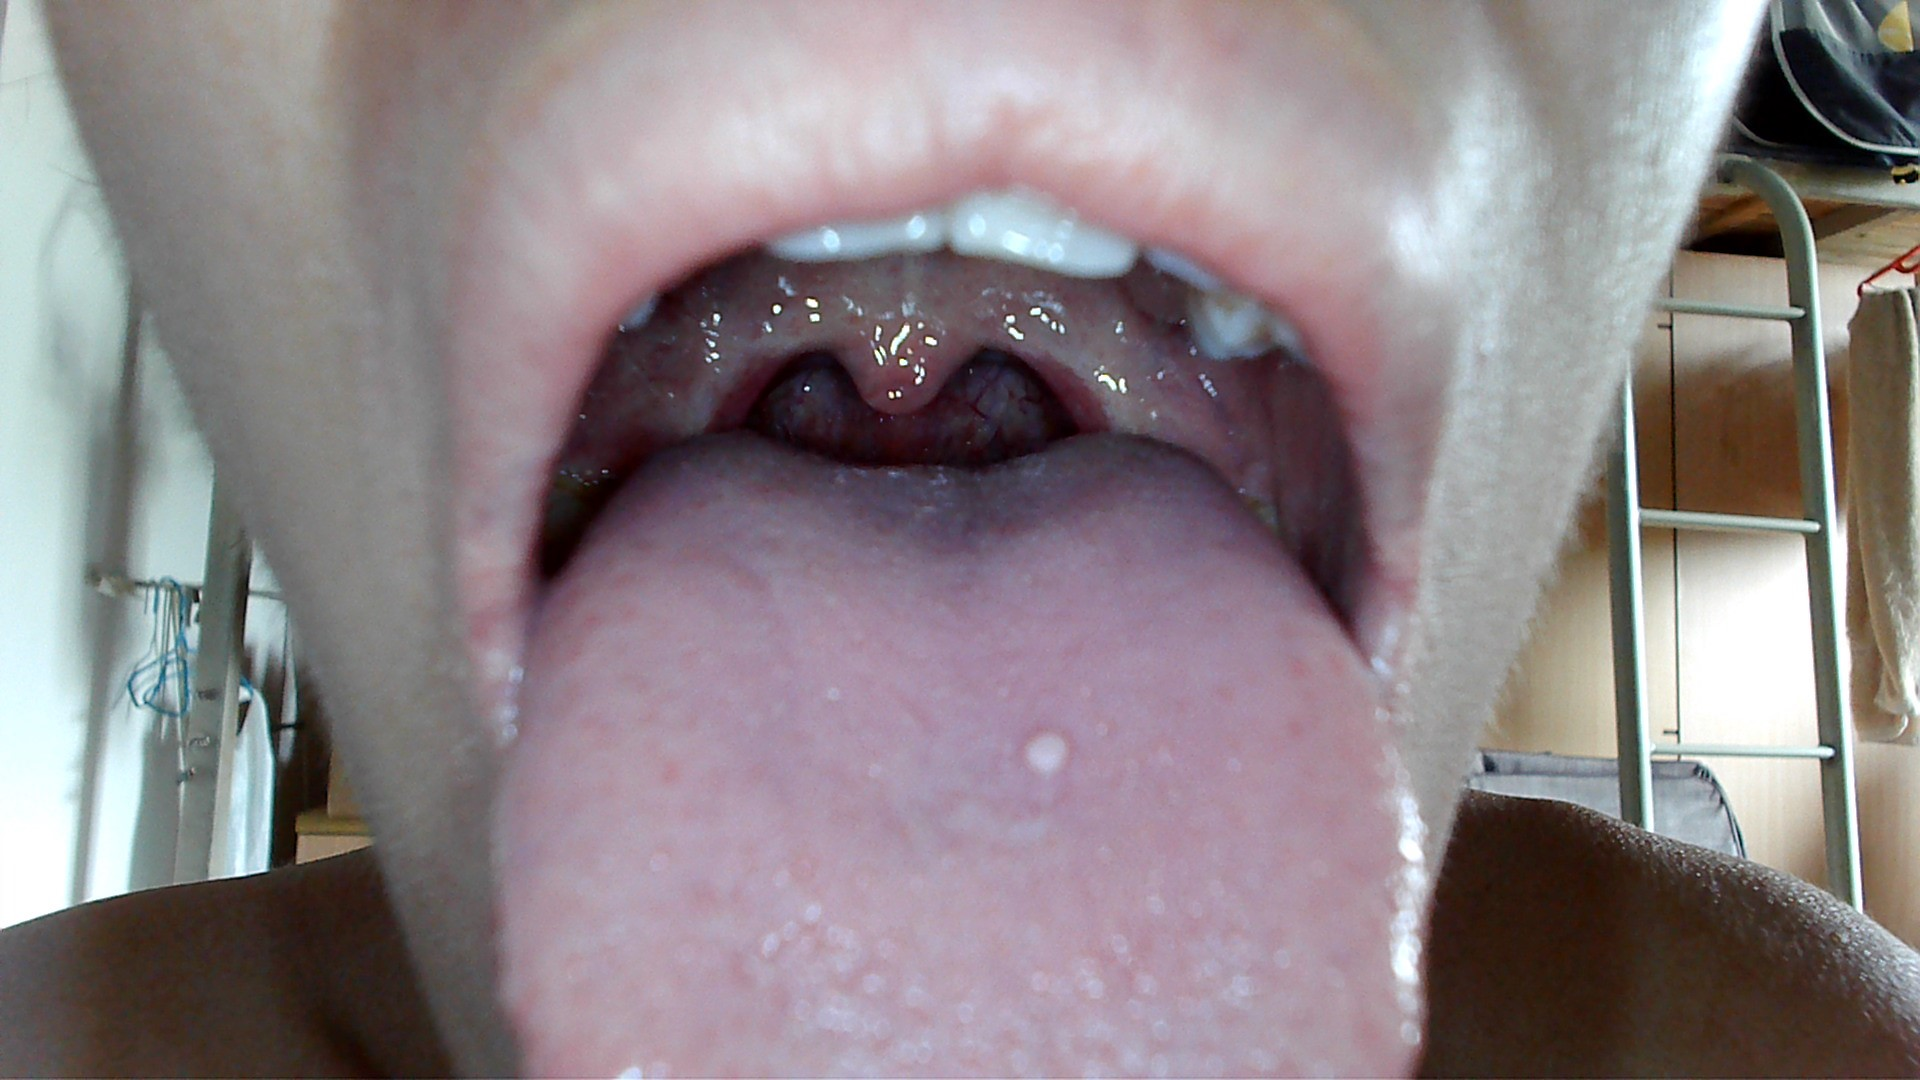throat: (1046, 336, 1182, 444), (622, 344, 766, 429)
